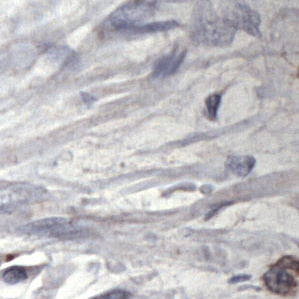Lymphocyte: (262, 255, 299, 294)
